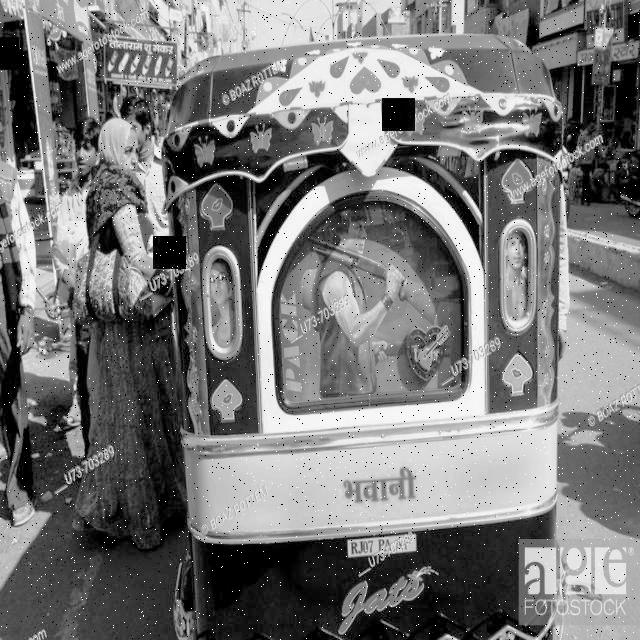Auto-Rickshaw: (148, 33, 579, 640)
